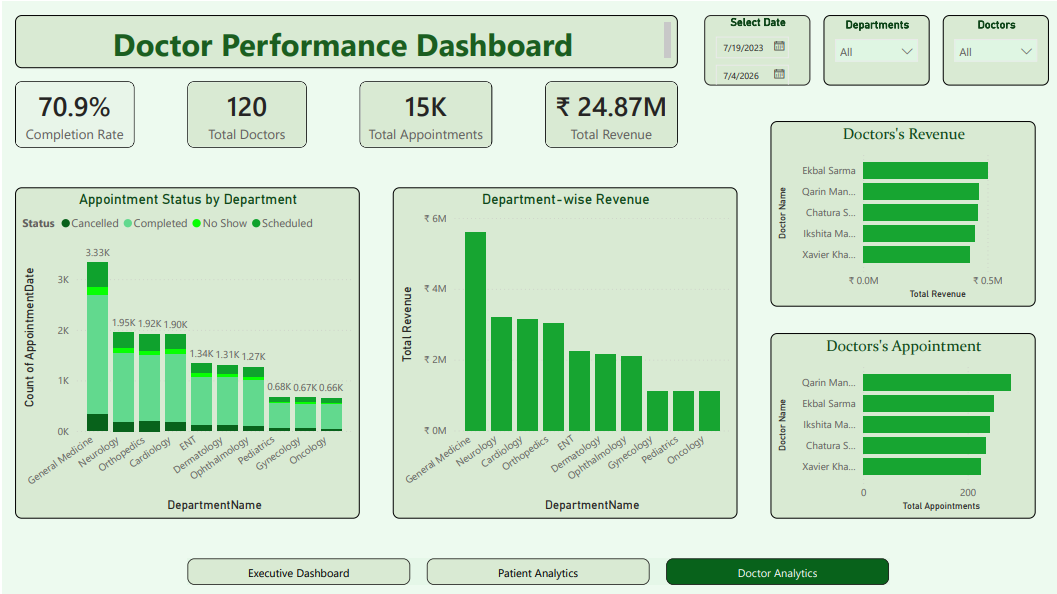

This screenshot's page, from the dashboard's own definition file:
{"tool":"powerbi","page":{"name":"Doctor Analytics","canvas":[1280,720],"ordinal":2},"visuals":[{"type":"textbox","box":[16,16,800,64],"z":0},{"type":"slicer","title":"Select Date","fields":{"Values":["appointments.AppointmentDate"]},"box":[848,16,128,85],"z":1000},{"type":"slicer","title":"Departments","fields":{"Values":["departments.DepartmentName"]},"box":[992,16,128,85],"z":2000},{"type":"slicer","title":"Doctors","fields":{"Values":["doctors.Doctor Name"]},"box":[1136,16,128,85],"z":3000},{"type":"cardVisual","fields":{"Data":["Measures_tables.Completion Rate"]},"box":[16,96,144,80],"z":4000},{"type":"cardVisual","fields":{"Data":["Measures_tables.Total Doctors"]},"box":[224,96,144,80],"z":5000},{"type":"cardVisual","fields":{"Data":["Measures_tables.Total Appointments"]},"box":[432,96,160,80],"z":6000},{"type":"cardVisual","fields":{"Data":["Measures_tables.Total Revenue"]},"box":[656,96,160,80],"z":7000},{"type":"clusteredBarChart","title":"Doctors''s Revenue","fields":{"Category":["doctors.Doctor Name"],"Y":["Measures_tables.Total Revenue"]},"box":[928,144,320,224],"z":12000},{"type":"clusteredBarChart","title":"Doctors''s Appointment","fields":{"Category":["doctors.Doctor Name"],"Y":["Measures_tables.Total Appointments"]},"box":[928,400,320,224],"z":14001},{"type":"clusteredColumnChart","title":"Department-wise Revenue","fields":{"Category":["departments.DepartmentName"],"Y":["Measures_tables.Total Revenue"]},"box":[472,224,416,400],"z":14002},{"type":"columnChart","title":"Appointment Status by Department","fields":{"Category":["departments.DepartmentName"],"Y":["CountNonNull(appointments.AppointmentDate)"],"Series":["appointments.Status"]},"box":[16,224,416,400],"z":14003},{"type":"pageNavigator","box":[224,672,848,32],"z":14004}]}

Visuals, with their boxes in screenshot pixels (x1, y1, x2, y2), scaled from the page's 1280x720 canvas onto the 1057x594 screenshot:
textbox: rect(13, 13, 674, 66)
"Select Date" slicer: rect(700, 13, 806, 83)
"Departments" slicer: rect(819, 13, 925, 83)
"Doctors" slicer: rect(938, 13, 1044, 83)
cardVisual - Measures_tables.Completion Rate: rect(13, 79, 132, 145)
cardVisual - Measures_tables.Total Doctors: rect(185, 79, 304, 145)
cardVisual - Measures_tables.Total Appointments: rect(357, 79, 489, 145)
cardVisual - Measures_tables.Total Revenue: rect(542, 79, 674, 145)
"Doctors''s Revenue" clusteredBarChart: rect(766, 119, 1031, 304)
"Doctors''s Appointment" clusteredBarChart: rect(766, 330, 1031, 515)
"Department-wise Revenue" clusteredColumnChart: rect(390, 185, 733, 515)
"Appointment Status by Department" columnChart: rect(13, 185, 357, 515)
pageNavigator: rect(185, 554, 885, 581)
